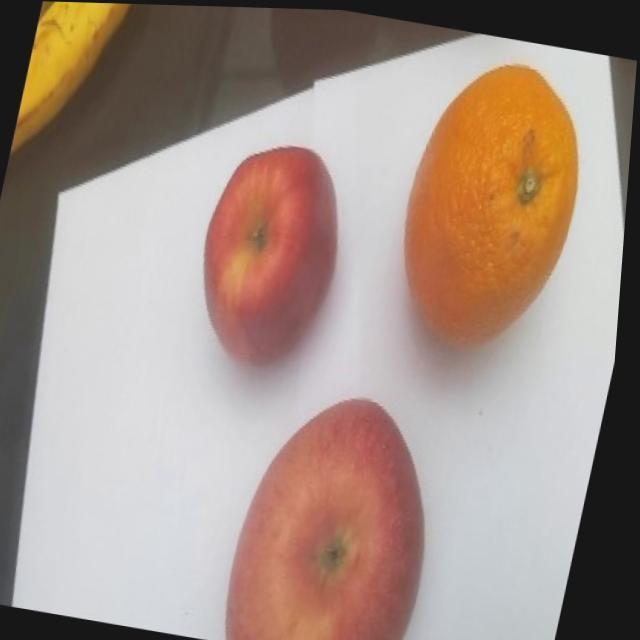Apple: (224, 380, 463, 640), (183, 132, 362, 377)
Banana: (10, 0, 138, 168)
Orange: (382, 48, 604, 361)
